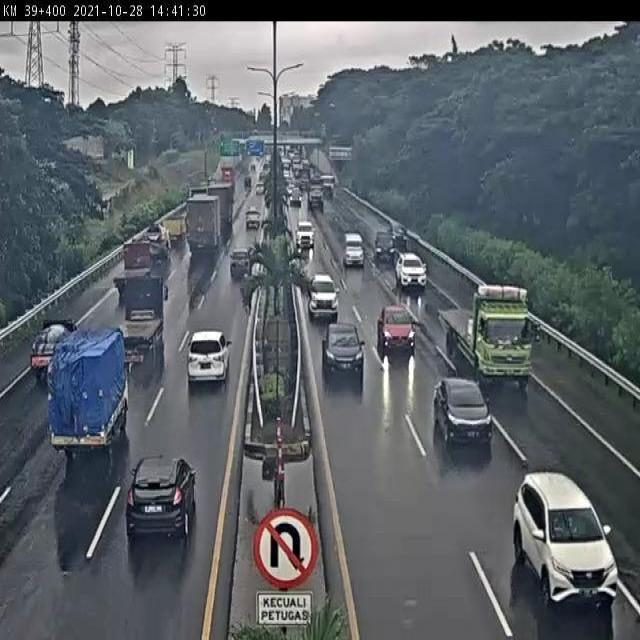car: (510, 472, 620, 608), (124, 455, 196, 541), (432, 377, 493, 447), (28, 315, 77, 377), (321, 323, 364, 380), (185, 332, 230, 385), (378, 306, 416, 358), (307, 274, 339, 318), (395, 253, 426, 288), (343, 232, 365, 265), (229, 248, 252, 277), (374, 232, 395, 261), (295, 221, 315, 248)
truck: (48, 325, 129, 459), (437, 283, 533, 389), (109, 276, 168, 368), (113, 240, 152, 297), (186, 194, 221, 250), (140, 224, 171, 269), (161, 216, 186, 247)
